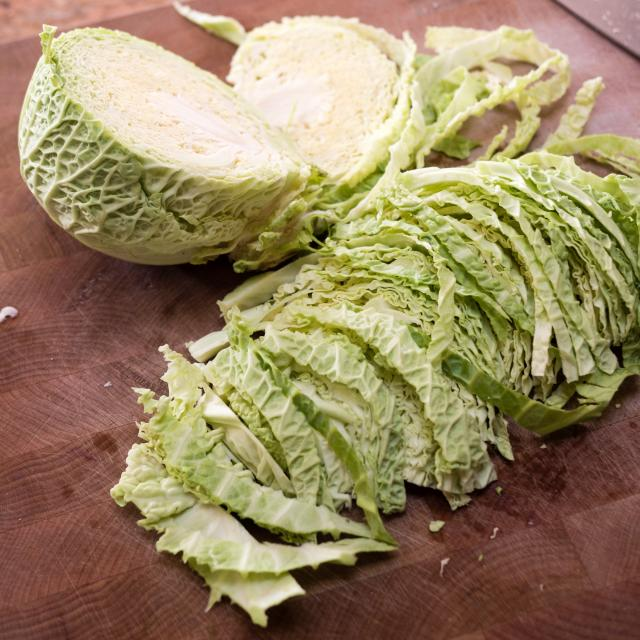cabbage: (21, 10, 302, 252)
